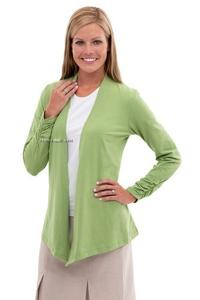S_cardigan sweater: (21, 73, 176, 263)
